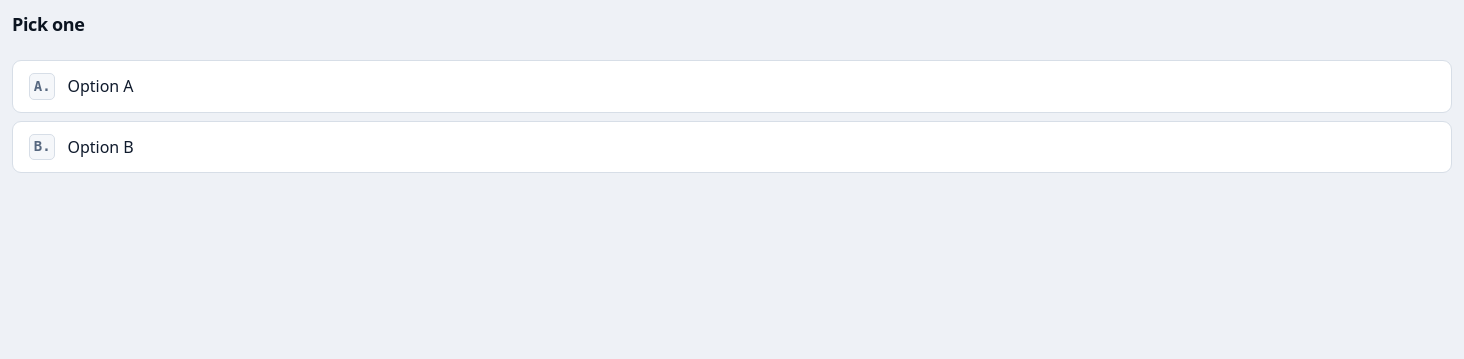
Test: QuestionCard › locks all choices after the first selection and shows feedback
Later steps or results of the test are not shown.
Click the button "A. Option A" at x=100, y=86, box [12, 60, 1452, 113]
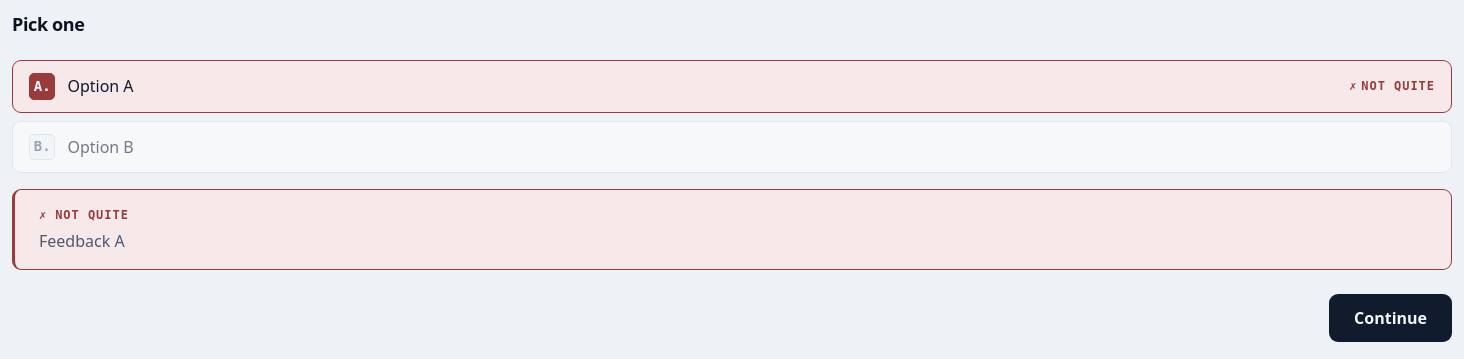
Result: the text "Feedback A" is shown at [39, 230, 125, 252]
Note: Locked: clicking the other option must not change the outcome.
Click the button "B. Option B" at x=101, y=147, box [12, 121, 1452, 173]
Result: the text "Feedback A" is shown at [39, 230, 125, 252]
